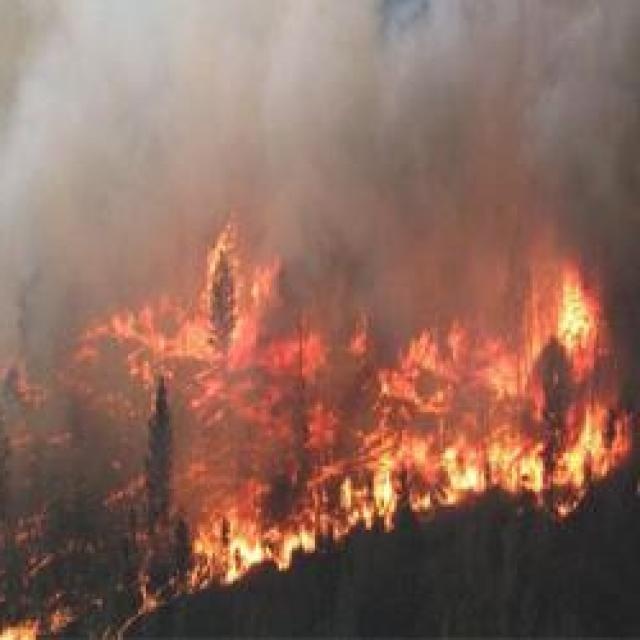fire: (379, 436, 563, 506), (536, 403, 634, 497), (205, 526, 319, 580), (555, 280, 592, 350)
smoke: (456, 1, 558, 160), (0, 0, 85, 143), (576, 19, 639, 198), (304, 188, 414, 290), (324, 3, 398, 124), (516, 206, 596, 290)
